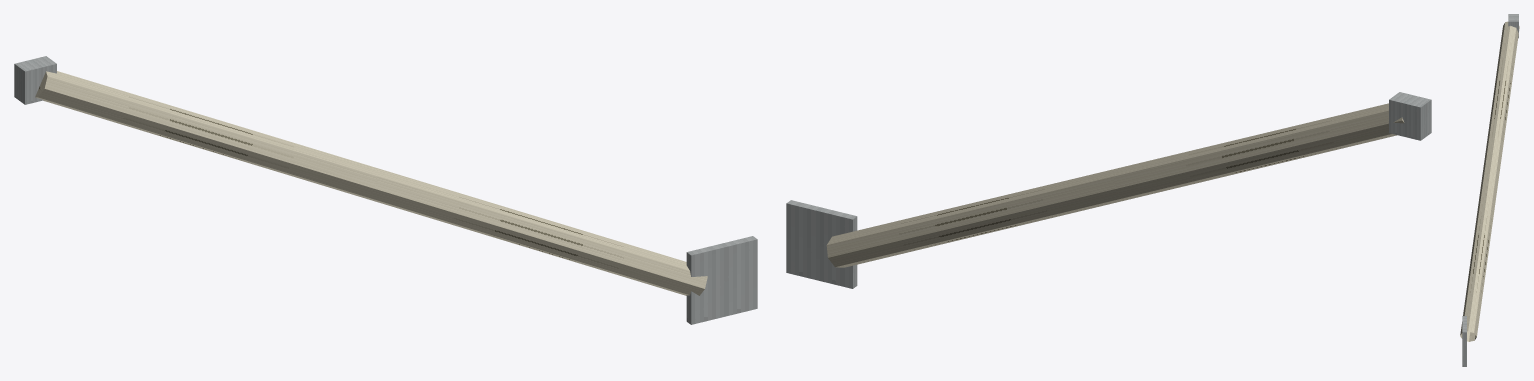
Rendered from brace_l.obj.
The picture shows the model from 3 angles, left to right: view 1: azimuth 30°, elevation 25°; view 2: azimuth 150°, elevation 25°; view 3: azimuth 270°, elevation 25°; orthographic projection. The views are drawn at different scales.
Parts seen in each view (by area): view 1: crossarm_alley_fiberglass_5_l; view 2: crossarm_alley_fiberglass_5_l; view 3: crossarm_alley_fiberglass_5_l.
Boxes of the visible parts, x1,y1,x2,y2 form: crossarm_alley_fiberglass_5_l: (14,56,757,324); crossarm_alley_fiberglass_5_l: (786,92,1431,288); crossarm_alley_fiberglass_5_l: (1460,14,1519,366).
Bounding box in the file's own units: 3.23 × 1.67 × 0.4865.
